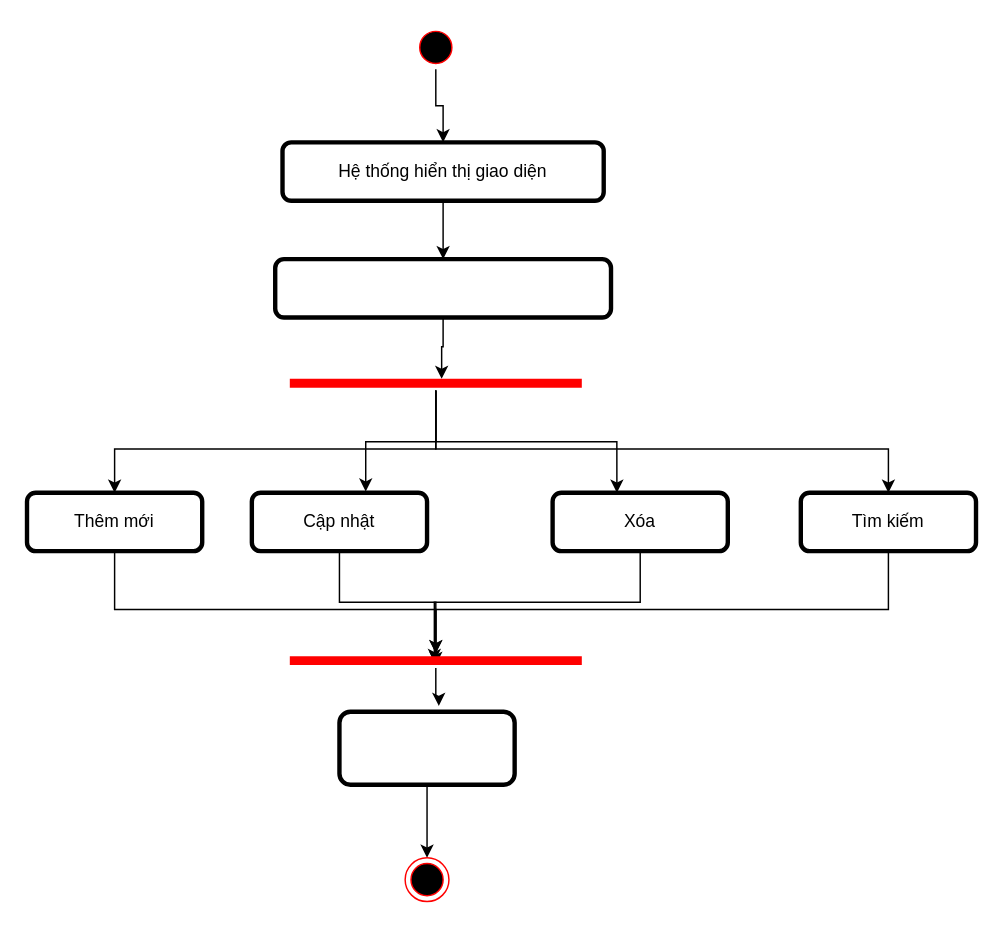
This 1003x927 diagram has some shape labels left out. Each missing label, with the centre of its shape:
Hiển thị kết quả: pixel 426 747
Hệ thống lấy và hiển thị danh sách hồ sơ: pixel 442 287
